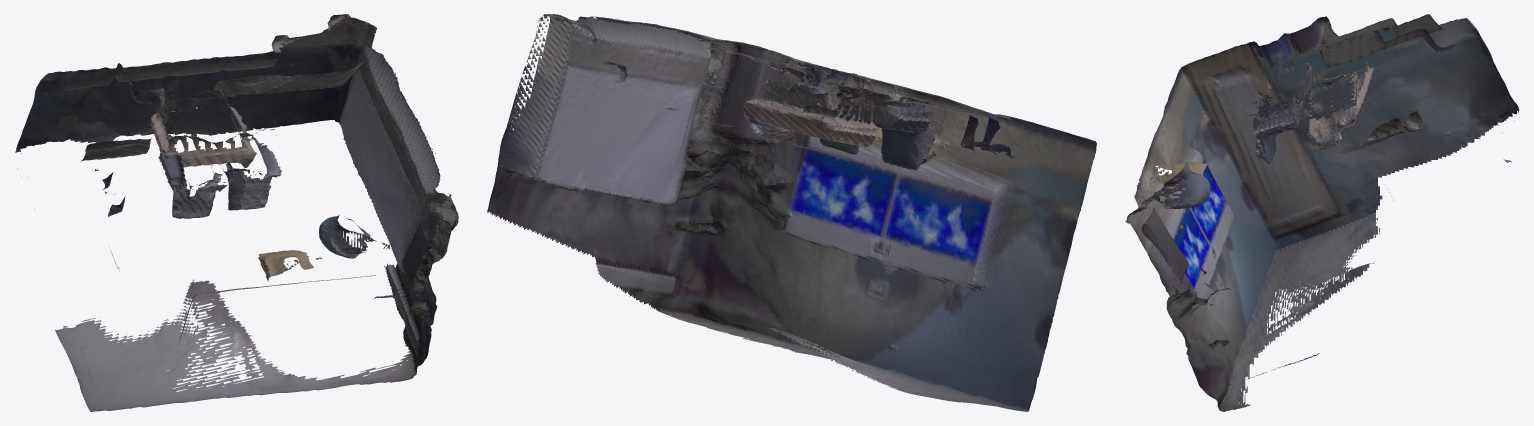
File: replica_office0.glb
3 views of the same model, side by side, from view 1: azimuth 30°, elevation 25°; view 2: azimuth 150°, elevation 25°; view 3: azimuth 270°, elevation 25° (orthographic). The views are drawn at different scales.
Visible parts, largest first — view 1: world; view 2: world; view 3: world.
Boxes of the visible parts, x1,y1,x2,y2 form: world: [15, 14, 458, 411]; world: [487, 14, 1096, 411]; world: [1125, 14, 1519, 411].
Bounding box in the file's own units: 4.73 × 3.85 × 4.61.
